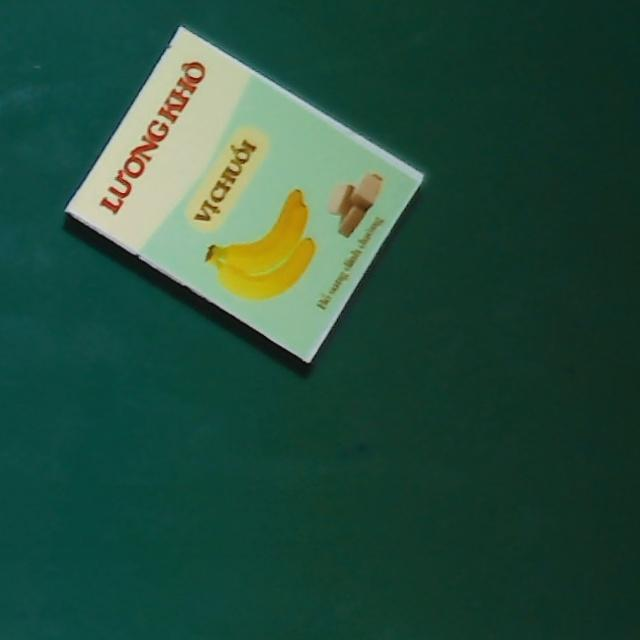chuoi: (63, 23, 426, 364)
